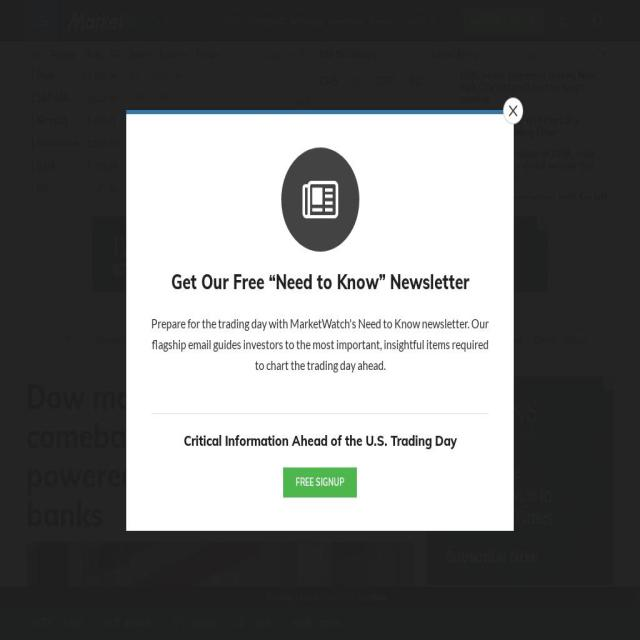button: (26, 541, 413, 640), (426, 142, 614, 188), (426, 186, 614, 232), (426, 342, 614, 388), (426, 65, 614, 109), (426, 265, 614, 309), (426, 421, 614, 465), (426, 109, 614, 143), (426, 231, 614, 265), (426, 309, 614, 343), (426, 387, 614, 421), (67, 8, 173, 34), (26, 606, 96, 640), (284, 606, 354, 640), (283, 467, 357, 498), (97, 606, 164, 640), (164, 606, 230, 640), (463, 8, 544, 34), (314, 65, 370, 99), (314, 132, 370, 166), (314, 166, 370, 200), (370, 65, 426, 99), (370, 132, 426, 166), (370, 166, 426, 200), (230, 606, 285, 640), (314, 99, 370, 132), (370, 99, 426, 132), (407, 0, 435, 42), (318, 591, 386, 603), (432, 50, 478, 60)
field: (292, 49, 309, 61)
heading: (26, 377, 412, 533), (151, 267, 489, 296), (151, 430, 489, 451), (67, 8, 173, 30), (266, 590, 318, 603)
iframe: (426, 377, 614, 585), (92, 216, 548, 292)
image: (26, 541, 413, 640), (187, 64, 314, 199), (426, 465, 614, 533), (280, 146, 360, 252), (582, 0, 614, 42), (503, 97, 523, 124), (358, 592, 386, 602)
label: (27, 0, 58, 42)
link: (95, 333, 163, 346), (270, 333, 326, 346), (33, 333, 83, 346), (218, 333, 261, 346), (250, 14, 286, 28), (37, 137, 79, 149), (172, 333, 210, 346), (329, 14, 363, 28), (369, 14, 402, 28), (490, 333, 524, 346), (292, 14, 322, 28), (597, 333, 629, 346), (159, 50, 187, 64), (37, 114, 67, 127), (395, 333, 424, 346), (37, 92, 68, 104), (459, 116, 496, 126), (196, 50, 221, 64), (220, 14, 244, 28), (52, 50, 76, 64), (459, 149, 492, 159), (459, 194, 492, 204), (459, 238, 492, 248), (459, 394, 492, 404), (432, 333, 457, 346), (432, 120, 459, 132), (432, 320, 459, 332), (124, 617, 150, 629), (191, 617, 216, 629), (533, 333, 556, 346), (565, 333, 588, 346), (432, 81, 459, 92), (432, 159, 459, 170), (432, 203, 459, 214), (432, 242, 459, 253), (432, 281, 459, 292), (432, 359, 459, 370), (432, 398, 459, 409), (432, 437, 459, 448), (129, 50, 150, 64), (59, 617, 83, 629), (335, 333, 357, 346), (459, 272, 492, 280), (366, 333, 386, 346), (250, 617, 271, 629), (320, 617, 340, 629), (37, 69, 54, 82), (37, 159, 54, 172), (465, 333, 482, 346), (86, 50, 101, 64), (350, 74, 364, 88), (407, 74, 421, 88), (407, 142, 421, 156), (407, 176, 421, 190), (407, 109, 421, 122), (31, 50, 42, 64), (354, 142, 364, 156), (354, 176, 364, 190), (354, 109, 364, 122), (111, 50, 120, 64), (37, 182, 47, 194), (638, 333, 640, 346)
text: (151, 312, 489, 375), (459, 190, 606, 228), (459, 268, 600, 305), (459, 69, 608, 104), (459, 347, 608, 382), (459, 425, 608, 460), (460, 146, 594, 183), (459, 391, 602, 417), (459, 235, 599, 261), (459, 314, 608, 338), (459, 112, 578, 138), (320, 50, 378, 60), (478, 52, 540, 60), (82, 69, 117, 82), (87, 114, 117, 127), (87, 159, 117, 172), (321, 592, 358, 602), (87, 92, 117, 104), (87, 137, 117, 149), (120, 69, 144, 82), (148, 137, 172, 149), (319, 74, 339, 88), (150, 69, 171, 82), (150, 114, 171, 127), (150, 159, 171, 172), (375, 74, 394, 88), (122, 137, 144, 149), (292, 617, 314, 629), (124, 114, 144, 127), (124, 159, 144, 172), (375, 109, 395, 122), (556, 12, 570, 30), (150, 92, 171, 104), (150, 182, 171, 194), (124, 92, 144, 104), (97, 182, 117, 194), (34, 617, 54, 629), (319, 176, 336, 190), (375, 142, 391, 156), (292, 136, 312, 146), (320, 142, 334, 156), (319, 109, 334, 122), (128, 182, 144, 194), (170, 617, 186, 629), (292, 96, 312, 105), (104, 617, 119, 629), (266, 51, 286, 59), (292, 178, 312, 186), (375, 176, 385, 190), (189, 190, 205, 198), (228, 190, 244, 198), (268, 190, 281, 198), (301, 190, 314, 198), (237, 617, 245, 629)
